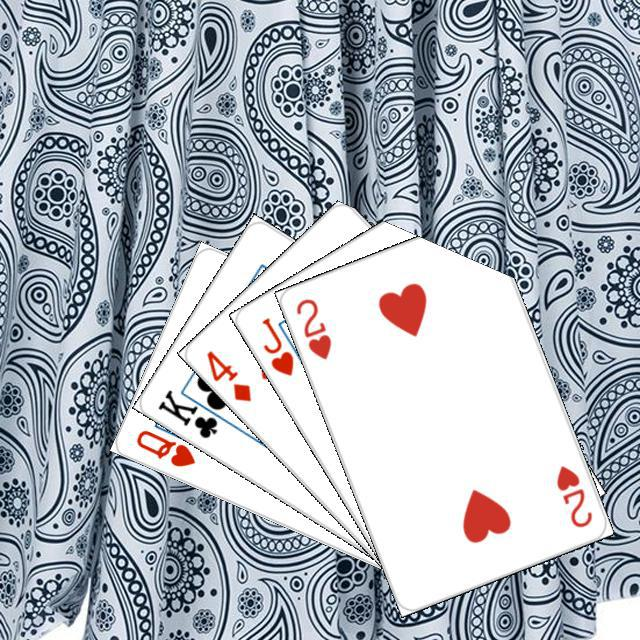2h: (551, 460, 594, 530), (291, 293, 333, 361)
4d: (201, 345, 253, 404)
Jh: (256, 312, 296, 378)
Kc: (152, 384, 233, 441)
Qh: (131, 424, 198, 469)
